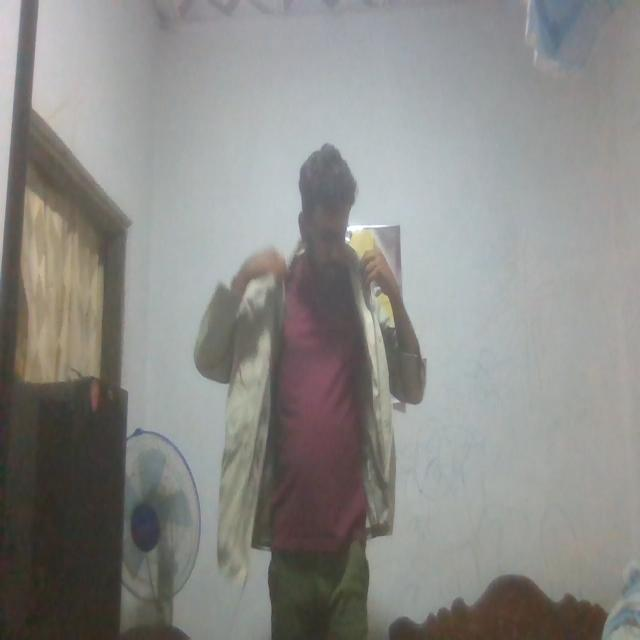Jacket_Wearer: (186, 239, 432, 547)
Person: (201, 145, 421, 640)
